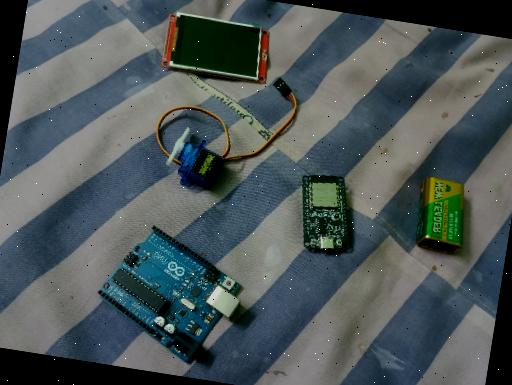Arduino: (86, 217, 252, 371)
Battery: (410, 174, 471, 256)
Display: (158, 9, 274, 84)
Esp32: (290, 168, 361, 255)
Motor: (161, 124, 229, 192)
